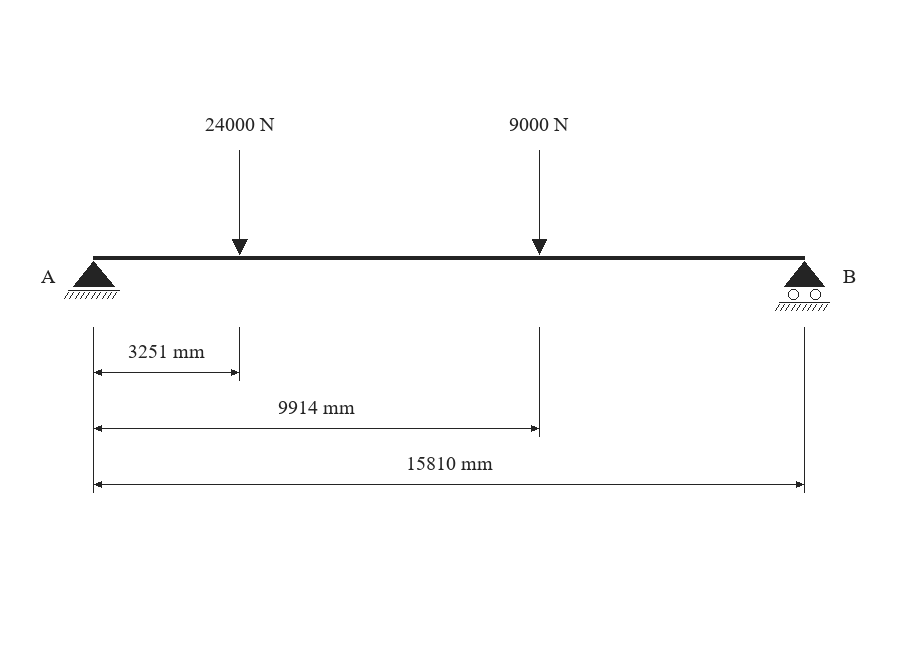pin_support: (64, 261, 120, 299)
point_load: (232, 150, 248, 255), (532, 150, 547, 255)
roller_support: (775, 261, 830, 311)
